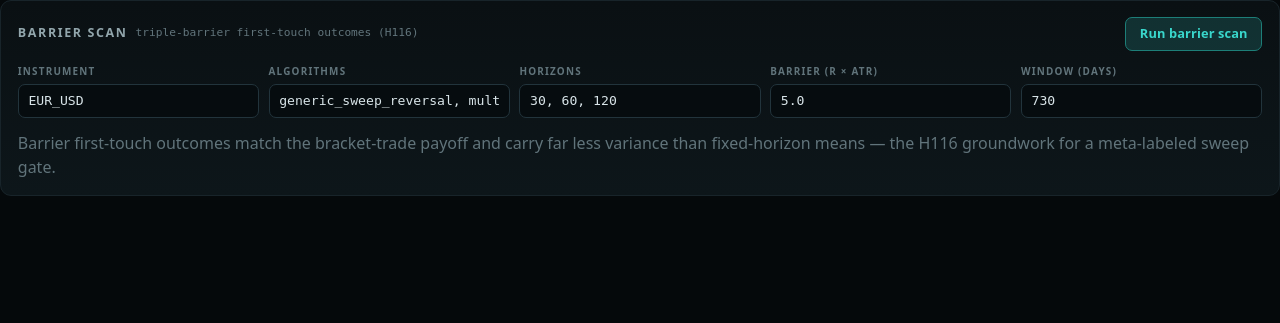
Test: submits the barrier scan payload and renders first-touch outcomes
The image size is (1280, 323).
Expected: the field labelled "Barrier (R × ATR)" holds "5.0", [770, 84, 1011, 118]
Expected: the number field labelled "Window (days)" holds "730", [1021, 84, 1262, 118]
Type "gbp_jpy" into the field labelled "Instrument" at (138,101), box [18, 84, 259, 118]
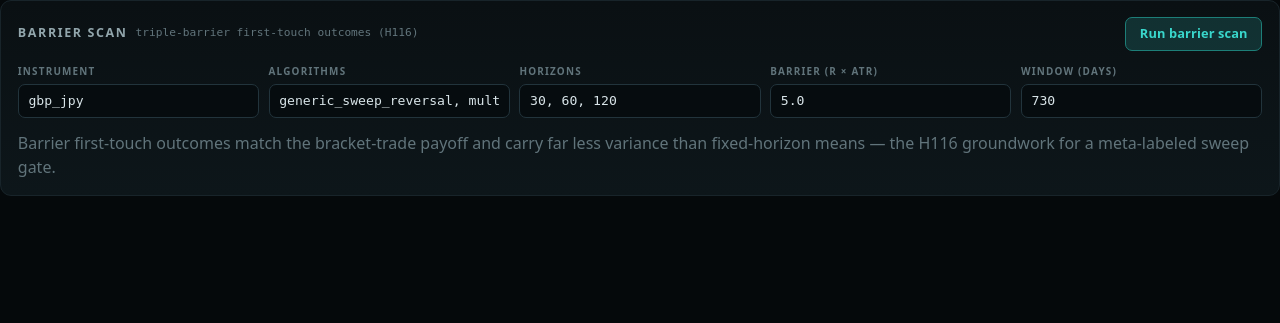
Click the button "Run barrier scan" at (1194,34), box [1125, 17, 1262, 51]
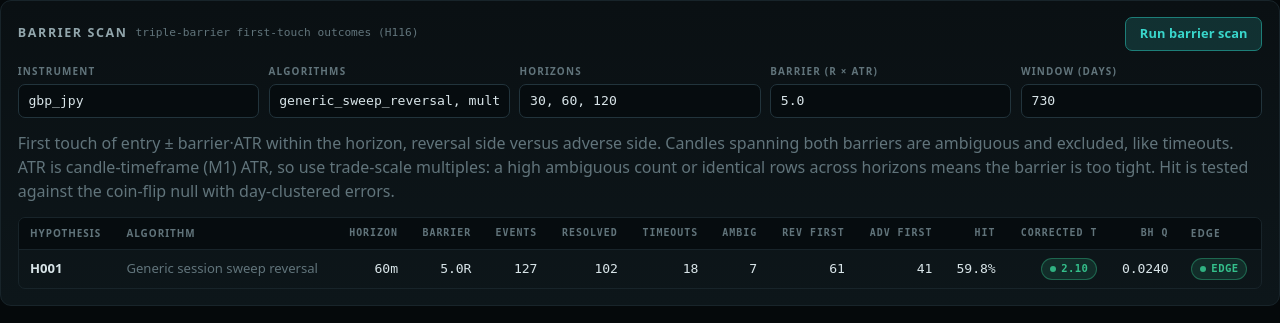
Expected: the text "Generic session sweep reversal" is shown, [115, 249, 336, 288]
Expected: the text "60m" is shown, [336, 249, 409, 288]
Expected: the text "5.0R" is shown, [409, 249, 482, 288]
